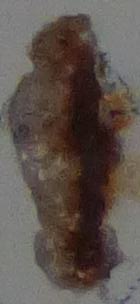Exposed reinforcement: (71, 63, 107, 267)
Spalling: (7, 13, 132, 293)
